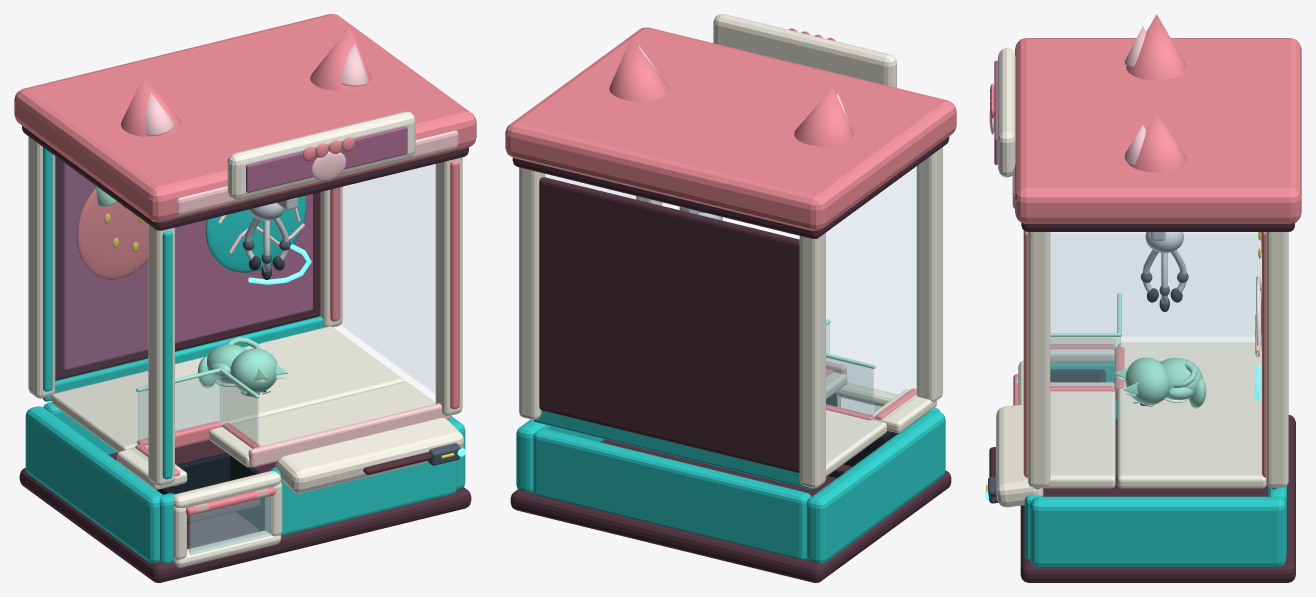
File: strawberry-cat.glb
3 views of the same model, side by side, from view 1: azimuth 30°, elevation 25°; view 2: azimuth 150°, elevation 25°; view 3: azimuth 270°, elevation 25° (orthographic). The views are drawn at different scales.
Visible parts, largest first — view 1: TopCanopy, GlassLeft, BackboardInset, GlassRight, DeckRear, BaseSideL, BasePlinth, BaseFrontRight, ControlConsole, DeckFrontRight, Post_L_B_Core, Post_R_F_Core (+38 smaller); view 2: BackboardPanel, TopCanopy, GlassLeft, BaseBack, BaseSideL, BasePlinth, Post_L_B_Core, Post_L_F_Core, MarqueeShell, Post_R_B_Core, DeckTrimBack, TopLowerTrim (+8 smaller); view 3: GlassRight, TopCanopy, BaseSideR, DeckRear, DeckFrontRight, BasePlinth, Post_R_B_Core, Post_R_F_Core, PrizeChuteGuardRight, ControlConsole, MarqueeShell, BaseInnerFloor (+15 smaller).
Part boxes in pixels (x1,y1,x2,y2): TopCanopy: [14, 14, 476, 222]; GlassLeft: [51, 155, 147, 461]; BackboardInset: [63, 162, 312, 370]; GlassRight: [336, 165, 434, 393]; DeckRear: [51, 326, 404, 452]; BaseSideL: [25, 406, 162, 563]; BasePlinth: [19, 468, 471, 582]; BaseFrontRight: [270, 460, 456, 535]; ControlConsole: [275, 418, 464, 493]; DeckFrontRight: [209, 382, 435, 467]; Post_L_B_Core: [28, 136, 55, 398]; Post_R_F_Core: [435, 157, 462, 415]; BackboardPanel: [539, 177, 799, 472]; TopCanopy: [505, 27, 956, 231]; GlassLeft: [826, 163, 922, 464]; BaseBack: [533, 428, 811, 559]; BaseSideL: [806, 410, 945, 563]; BasePlinth: [510, 470, 951, 582]; Post_L_B_Core: [799, 232, 825, 488]; Post_L_F_Core: [916, 147, 942, 402]; MarqueeShell: [713, 14, 896, 87]; Post_R_B_Core: [519, 167, 545, 419]; DeckTrimBack: [533, 410, 812, 489]; TopLowerTrim: [512, 136, 949, 238]; GlassRight: [1051, 234, 1261, 474]; TopCanopy: [1015, 38, 1301, 223]; BaseSideR: [1030, 496, 1286, 566]; DeckRear: [1117, 342, 1266, 488]; DeckFrontRight: [1041, 382, 1115, 488]; BasePlinth: [1020, 415, 1295, 582]; Post_R_B_Core: [1266, 232, 1288, 487]; Post_R_F_Core: [1028, 232, 1050, 487]; PrizeChuteGuardRight: [1050, 337, 1118, 390]; ControlConsole: [996, 404, 1043, 507]; MarqueeShell: [998, 48, 1015, 177]; BaseInnerFloor: [1043, 419, 1267, 496].
Bounding box in the file's own units: 4.66 × 6.09 × 3.93.
